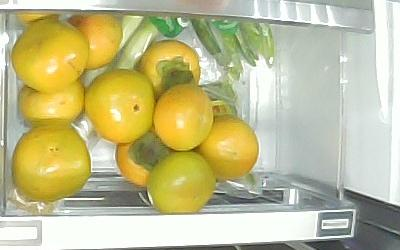persimmon: (12, 125, 91, 203), (10, 18, 89, 93), (84, 68, 157, 144), (154, 82, 214, 150), (197, 114, 259, 178), (148, 152, 214, 211), (136, 39, 201, 94), (116, 131, 174, 187), (68, 12, 123, 69), (19, 81, 86, 125)
